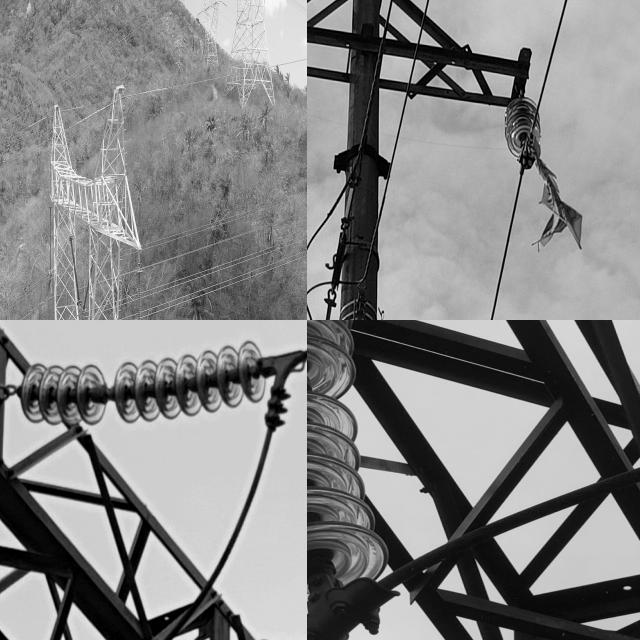杆塔: (47, 68, 141, 320), (225, 0, 285, 124)
植被遮挡: (519, 135, 587, 252)
正常电缆: (33, 183, 307, 320)
正常绝缘子: (0, 328, 281, 432), (307, 320, 398, 615), (499, 86, 548, 176), (68, 235, 82, 308), (81, 252, 97, 314), (134, 268, 145, 320), (47, 203, 53, 274)
绝缘子破损: (307, 369, 320, 394), (99, 383, 112, 404)
